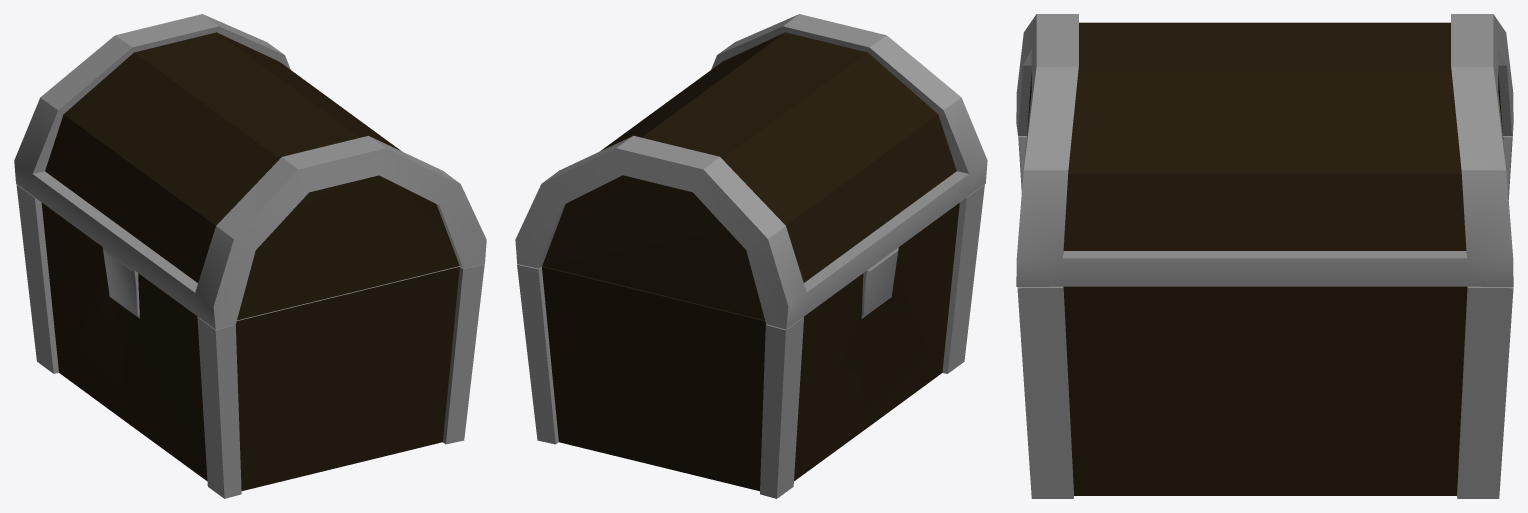
The model's file is Chest.FBX.
3 renders of one model, left to right at view 1: azimuth 30°, elevation 25°; view 2: azimuth 150°, elevation 25°; view 3: azimuth 270°, elevation 25°, orthographic. The views are drawn at different scales.
Visible parts, largest first — view 1: Object003; view 2: Object003; view 3: Object003.
Boxes of the visible parts, bbox=[...] form: Object003: bbox=[14, 14, 486, 498]; Object003: bbox=[515, 14, 987, 498]; Object003: bbox=[1016, 14, 1513, 498].
Size of the model in its own units: 43.84 by 47.52 by 55.49.
